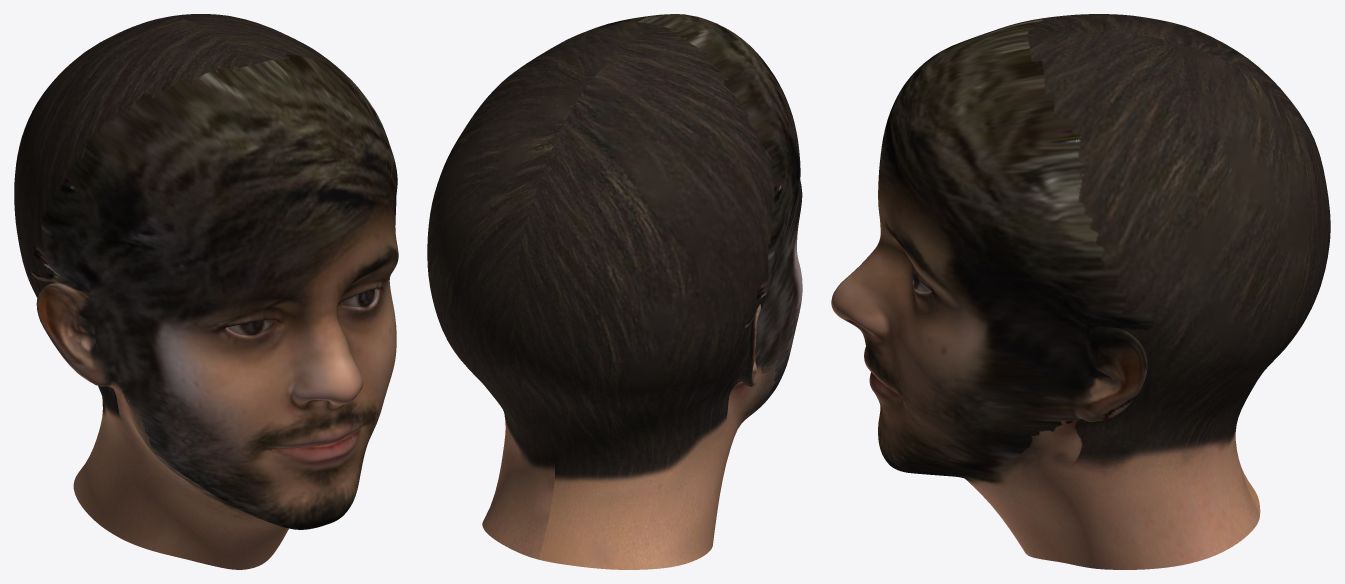
The model's file is tez.glb.
The picture shows the model from 3 angles, left to right: view 1: azimuth 30°, elevation 25°; view 2: azimuth 150°, elevation 25°; view 3: azimuth 270°, elevation 25°; orthographic projection. The views are drawn at different scales.
Visible parts, largest first — view 1: FBHead.001; view 2: FBHead.001; view 3: FBHead.001.
Part boxes in pixels (x1,y1,x2,y2): FBHead.001: [14, 14, 398, 569]; FBHead.001: [427, 14, 802, 569]; FBHead.001: [831, 14, 1330, 569].
Size of the model in its own units: 0.1689 by 0.2519 by 0.22.
Materials: 1 (1 with a texture image).
